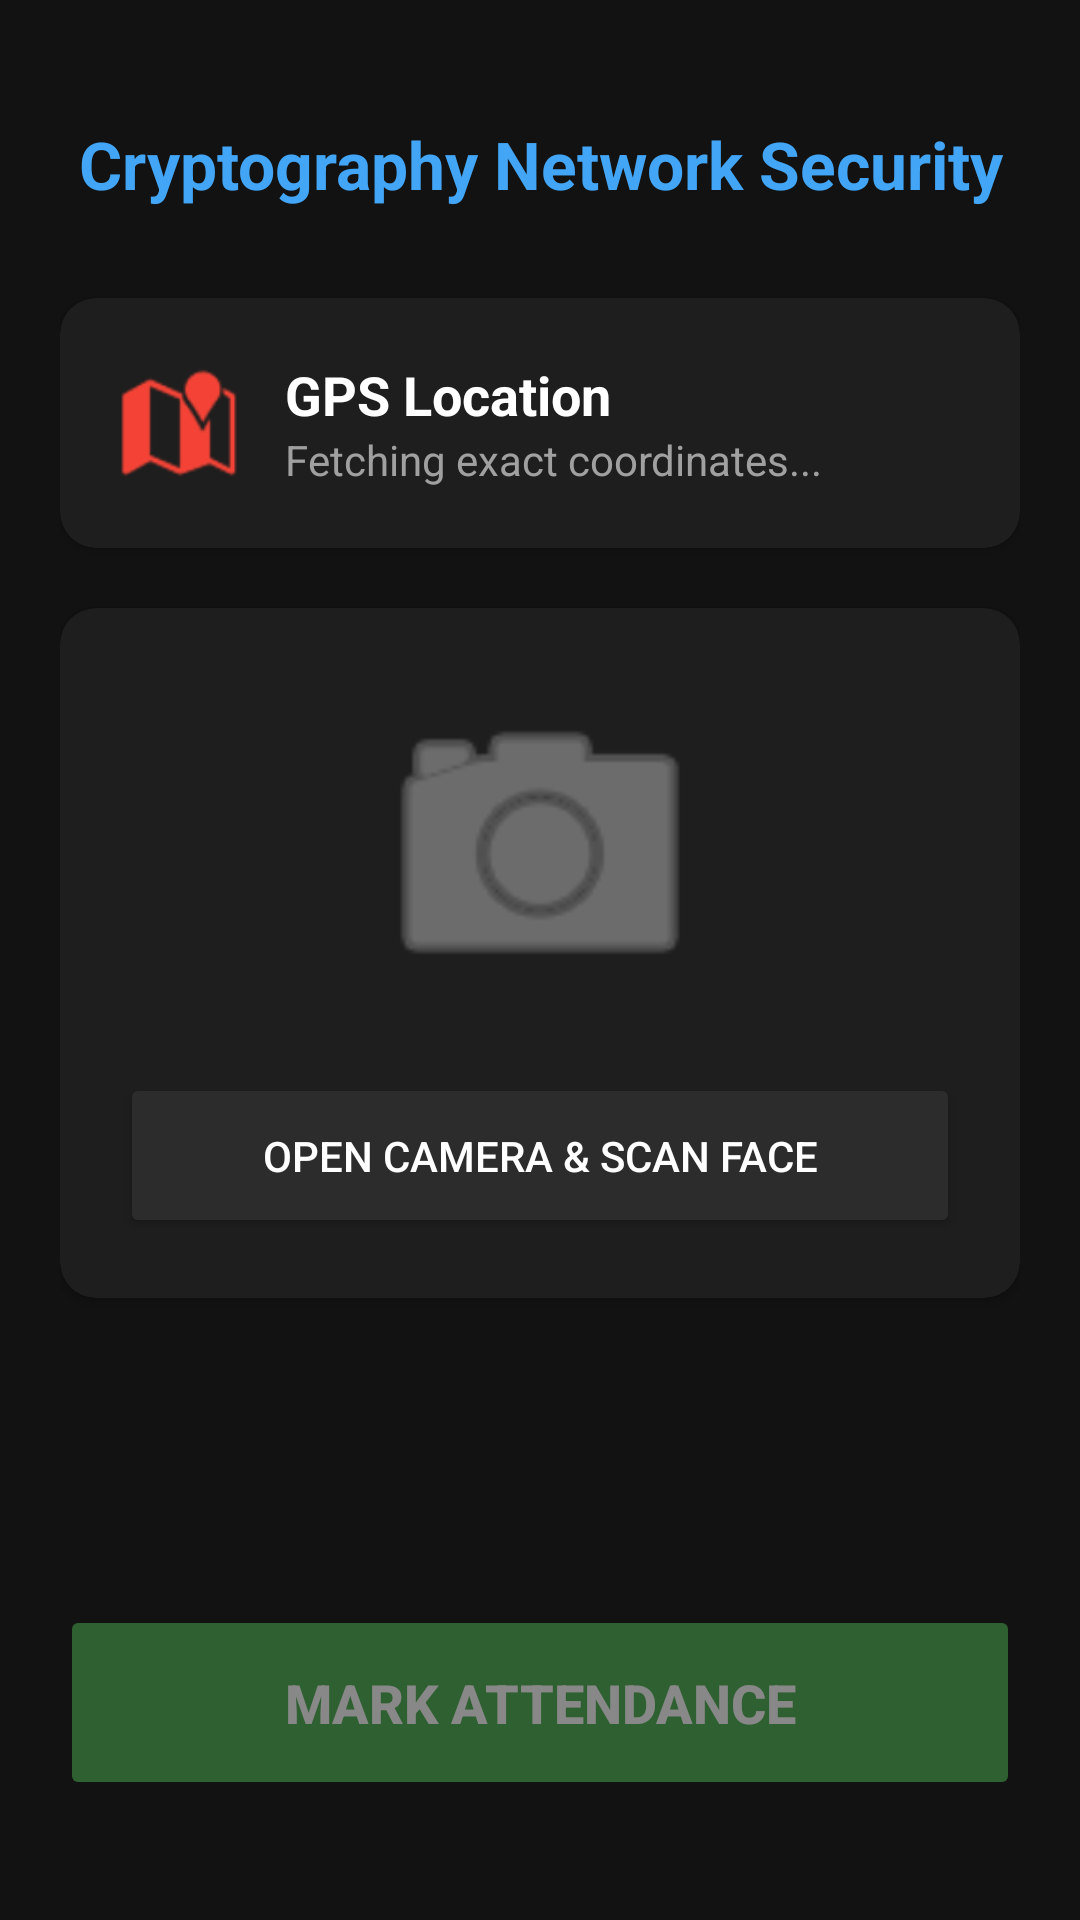

Where to tap for icons on this 1080×1920 app screen, as point (x, y):
map: point (179, 423)
